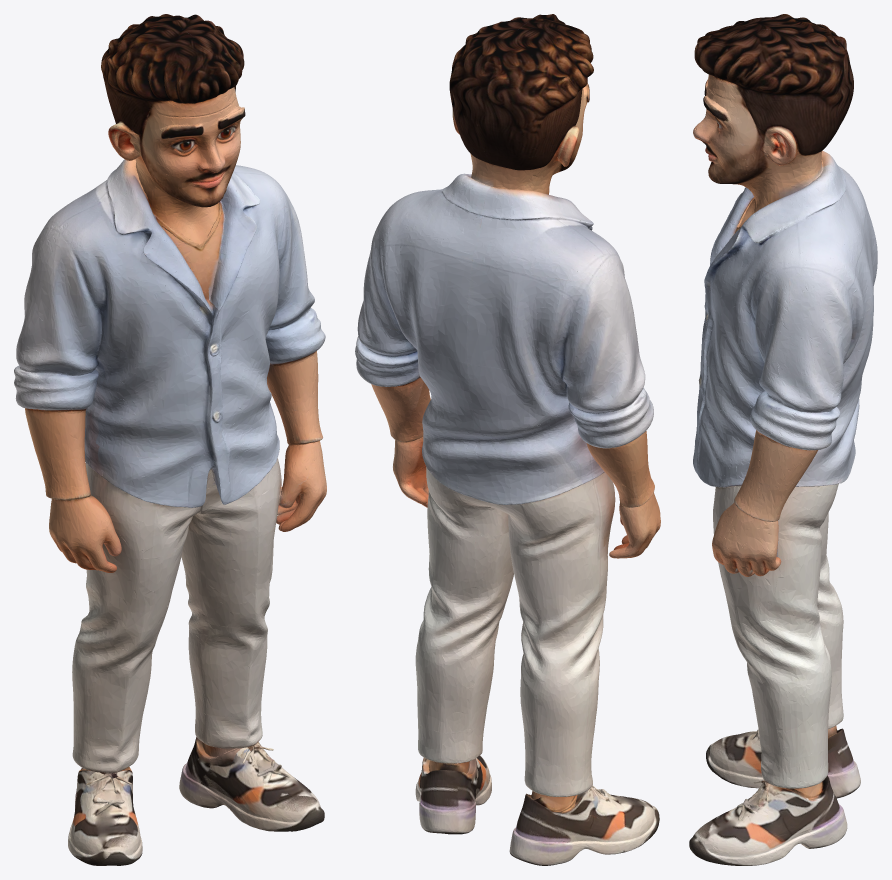
File: musty-hi3d-web.glb
3 views of the same model, side by side, from view 1: azimuth 30°, elevation 25°; view 2: azimuth 150°, elevation 25°; view 3: azimuth 270°, elevation 25° (orthographic).
Parts seen in each view (by area): view 1: tmph3wbw_un.obj; view 2: tmph3wbw_un.obj; view 3: tmph3wbw_un.obj.
Boxes of the visible parts, x1=… form: tmph3wbw_un.obj: x1=14, y1=14, x2=326, y2=865; tmph3wbw_un.obj: x1=355, y1=14, x2=660, y2=865; tmph3wbw_un.obj: x1=689, y1=14, x2=877, y2=865.
Size of the model in its own units: 0.7464 by 1.95 by 0.423.
1 material, 1 textured.
